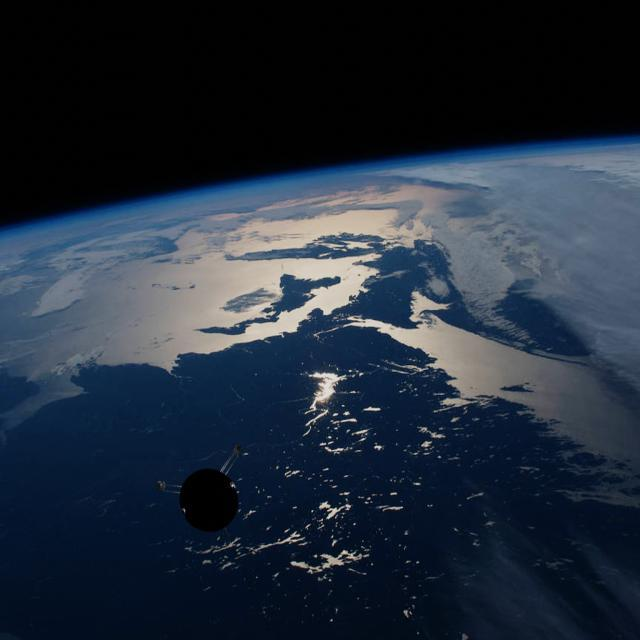satellite: (149, 451, 263, 542)
